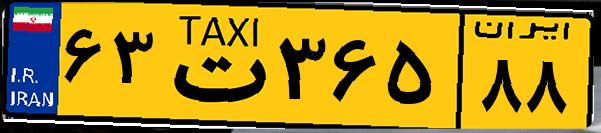3: (270, 28, 330, 110), (110, 28, 158, 98)
5: (385, 28, 445, 110)
6: (330, 28, 385, 110), (57, 26, 110, 100)
8: (475, 38, 525, 113), (525, 38, 570, 115)
ت: (158, 12, 270, 120)
